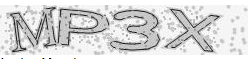3: (108, 8, 163, 53)
M: (9, 6, 57, 53)
P: (57, 7, 110, 47)
X: (163, 6, 221, 54)
